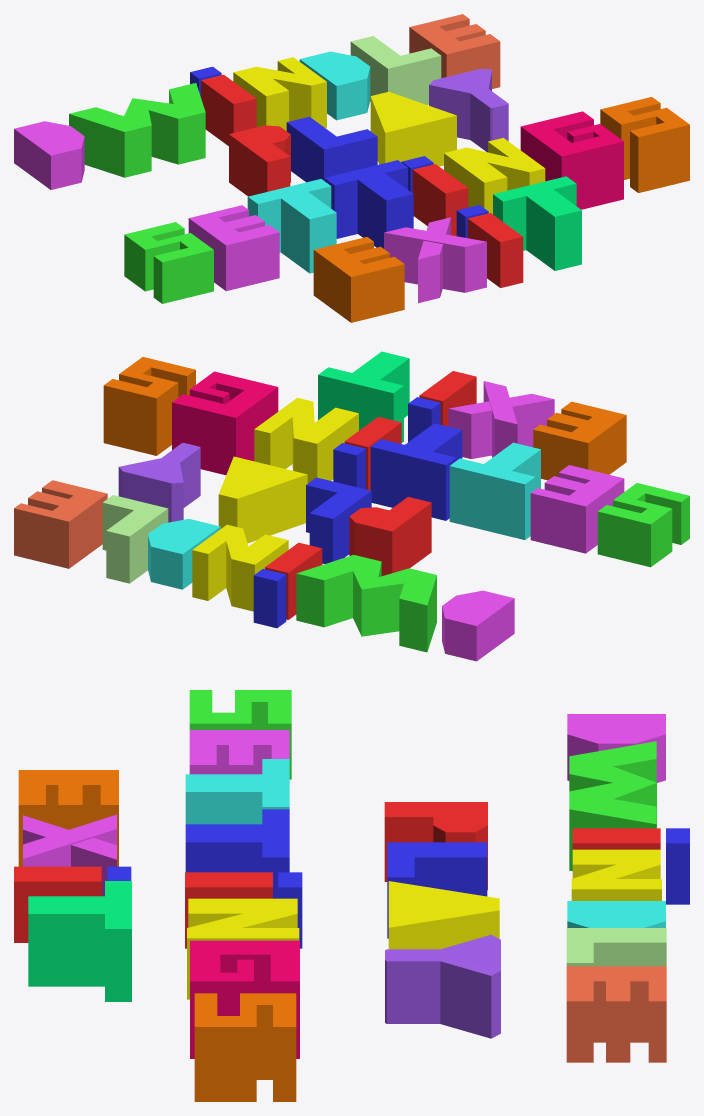
The model's file is MenuText.fbx.
The picture shows the model from 3 angles, top to bottom: view 1: azimuth 30°, elevation 25°; view 2: azimuth 150°, elevation 25°; view 3: azimuth 270°, elevation 25°; orthographic projection. The views are drawn at different scales.
Parts seen in each view (by area): view 1: Cube.065, Cube.082, Cube.085, Cube.083, Cube.088, Cube.089, Cube.076, Cube.078, Cube.075, Cube.077, Cube.073, Cube.068 (+12 smaller); view 2: Cube.065, Cube.082, Cube.077, Cube.083, Cube.070, Cube.078, Cube.076, Cube.073, Cube.075, Cube.081, Cube.085, Cube.089 (+14 smaller); view 3: Cube.083, Cube.088, Cube.074, Cube.070, Cube.065, Cube.082, Cube.073, Cube.078, Cube.085, Cube.077, Cube.081, Cube.072 (+13 smaller).
Part boxes in pixels (x1,y1,x2,y2): Cube.065: [69, 83, 205, 177]; Cube.082: [520, 111, 623, 209]; Cube.085: [313, 237, 404, 322]; Cube.083: [600, 97, 689, 192]; Cube.088: [493, 176, 581, 270]; Cube.089: [384, 217, 486, 303]; Cube.076: [124, 222, 213, 303]; Cube.078: [324, 160, 413, 248]; Cube.075: [188, 205, 279, 291]; Cube.077: [247, 179, 336, 273]; Cube.073: [370, 91, 456, 166]; Cube.068: [233, 57, 326, 130]; Cube.065: [296, 554, 436, 652]; Cube.082: [172, 371, 278, 475]; Cube.077: [449, 442, 540, 539]; Cube.083: [103, 357, 195, 455]; Cube.070: [14, 480, 107, 568]; Cube.078: [370, 423, 462, 520]; Cube.076: [597, 483, 689, 567]; Cube.073: [218, 456, 307, 543]; Cube.075: [530, 465, 624, 553]; Cube.081: [254, 397, 358, 483]; Cube.085: [533, 401, 626, 480]; Cube.089: [448, 381, 554, 458]; Cube.083: [194, 993, 296, 1101]; Cube.088: [28, 881, 131, 1001]; Cube.074: [385, 934, 500, 1038]; Cube.070: [566, 966, 666, 1062]; Cube.065: [569, 741, 656, 870]; Cube.082: [190, 940, 299, 1058]; Cube.073: [388, 881, 499, 949]; Cube.078: [185, 809, 289, 898]; Cube.085: [18, 770, 118, 866]; Cube.077: [185, 759, 289, 824]; Cube.081: [187, 898, 299, 999]; Cube.072: [387, 842, 487, 938].
Size of the model in its own units: 1076 by 113 by 887.
